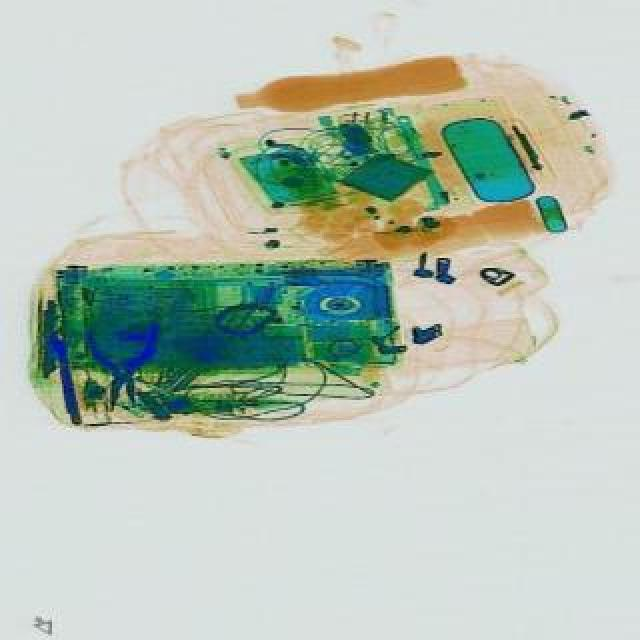wrench: (88, 318, 168, 414)
